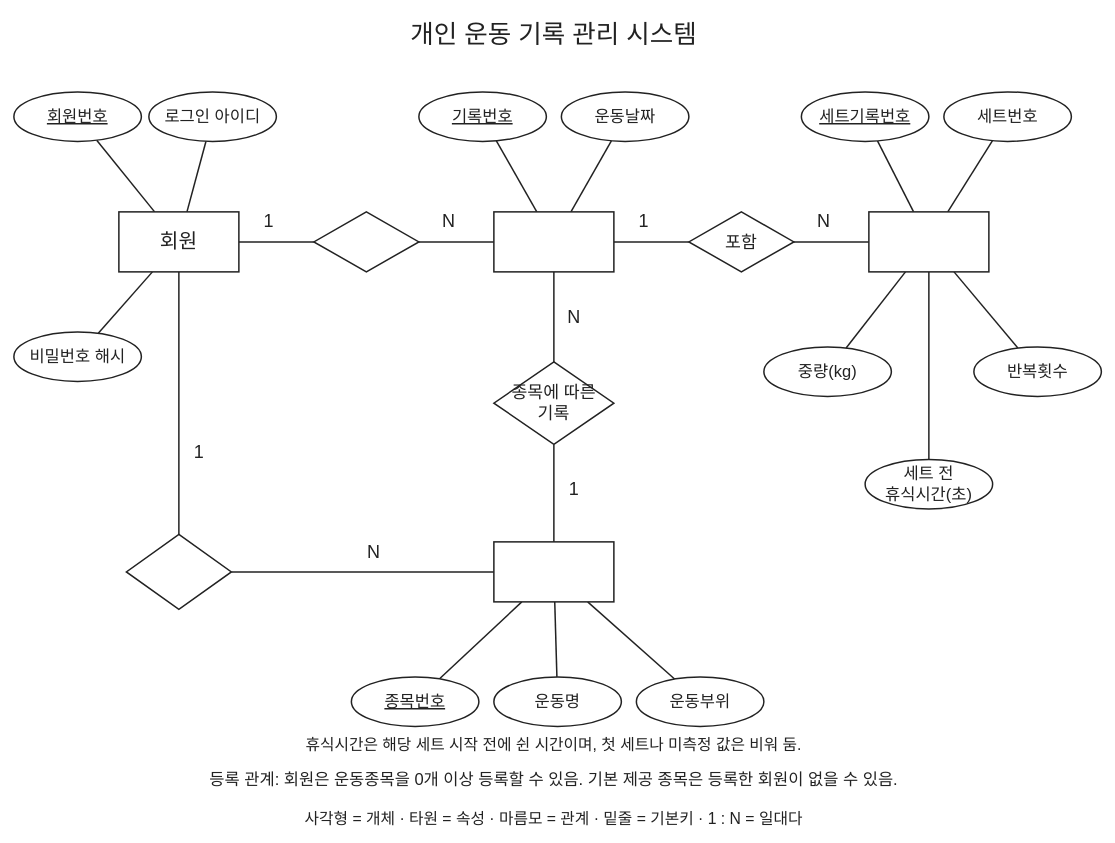
The diagram is 1115 pixels wide and 843 high, and some of its shapes have lost their labels. Each missing label, with the centre of its shape:
등록: the point at 178,571
세트기록: the point at 928,241
운동기록: the point at 553,241
운동종목: the point at 553,571
작성: the point at 366,241
